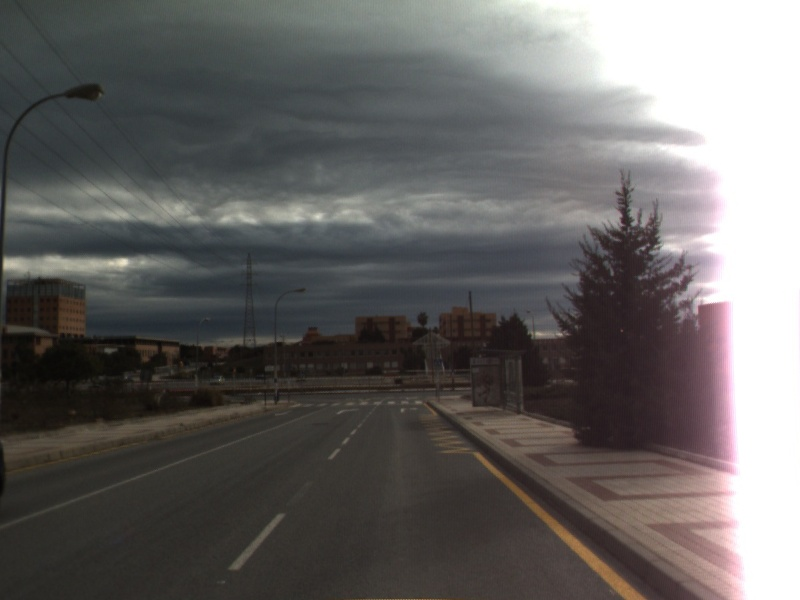RIGHT: (334, 406, 362, 417), (398, 405, 420, 415)
